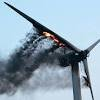faulty: (17, 6, 90, 75)
